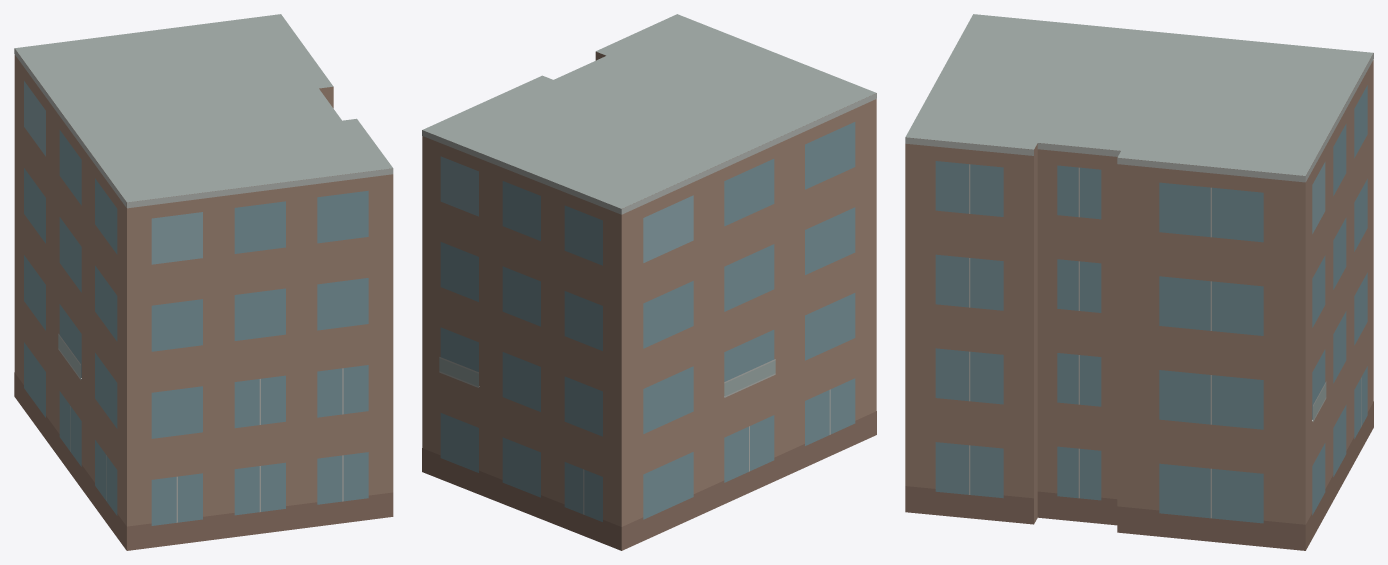
The model's file is survey-upis-32859563.glb.
3 views of the same model, side by side, from view 1: azimuth 30°, elevation 25°; view 2: azimuth 150°, elevation 25°; view 3: azimuth 270°, elevation 25° (orthographic). The views are drawn at different scales.
Visible parts, largest first — view 1: survey-upis-32859563.tmp; view 2: survey-upis-32859563.tmp; view 3: survey-upis-32859563.tmp.
Part boxes in pixels (x1=…): survey-upis-32859563.tmp: x1=14, y1=14, x2=393, y2=550; survey-upis-32859563.tmp: x1=422, y1=14, x2=876, y2=550; survey-upis-32859563.tmp: x1=905, y1=14, x2=1373, y2=550.
Bounding box in the file's own units: 13.23 × 14.26 × 16.16.
